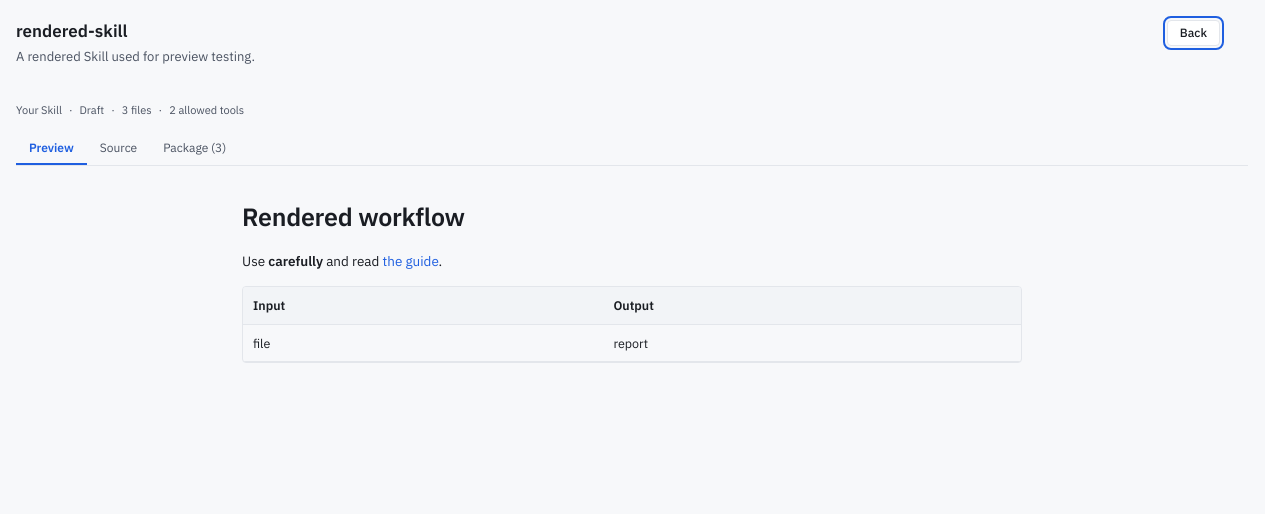
Test: SkillDetailsView › shows full source and the package inventory without rendering supporting Markdown
expect the text "A rendered Skill used for preview testing." is shown: met, box x1=16 y1=47 x2=255 y2=66
Click the tab "Source": {"x": 118, "y": 148} x1=87 y1=132 x2=150 y2=164
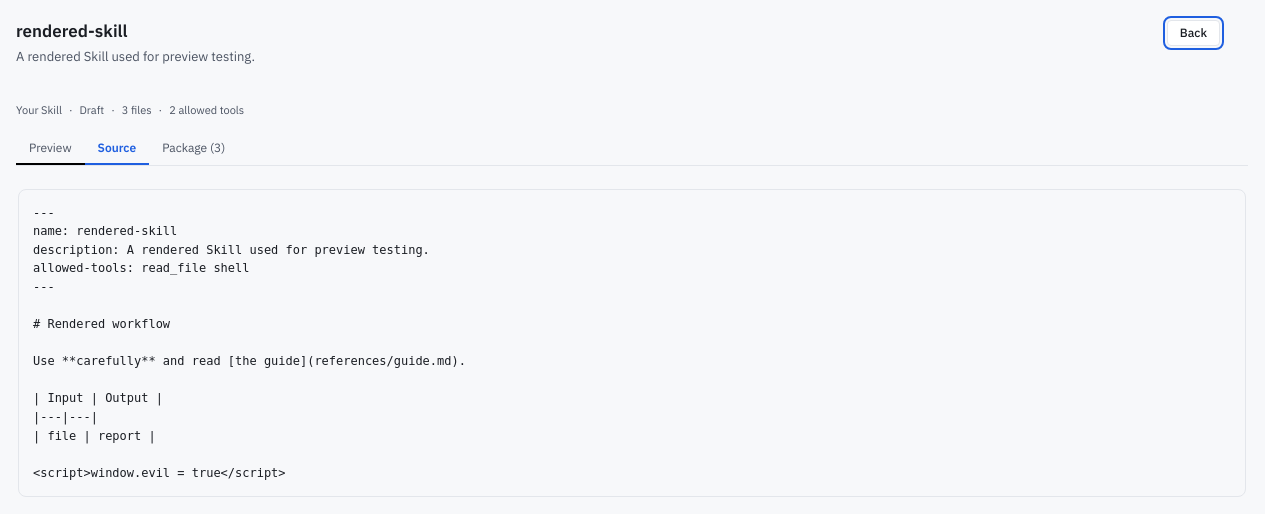
expect the text "name: rendered-skill" is shown: met, box x1=33 y1=206 x2=466 y2=480
Click the tab "Package (3)": {"x": 194, "y": 148} x1=149 y1=132 x2=238 y2=164
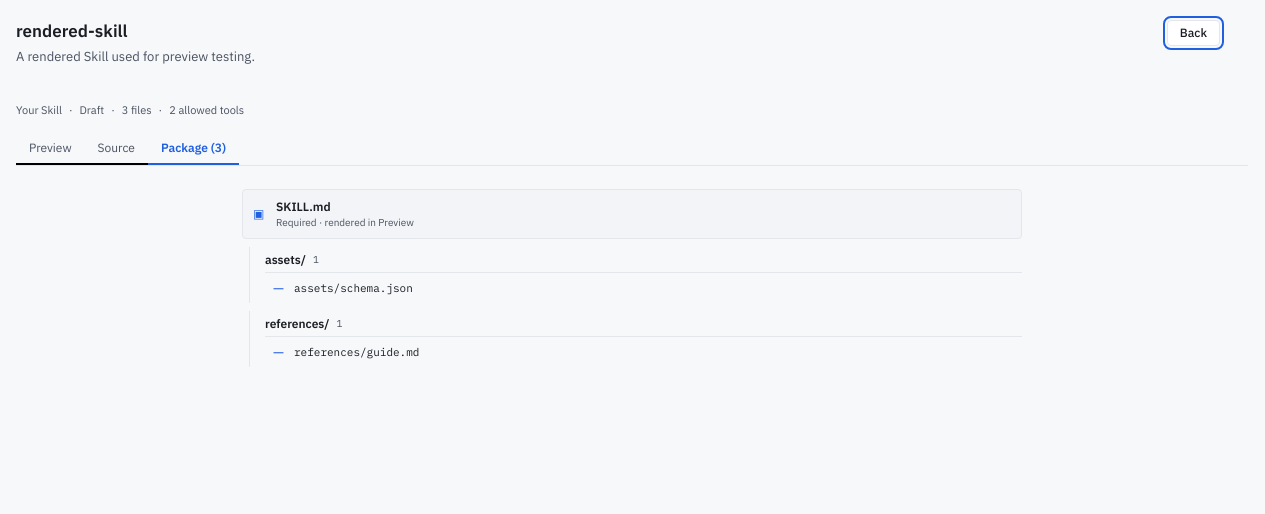
expect the text "references/guide.md" is shown: met, box x1=294 y1=344 x2=419 y2=358
expect the text "assets/schema.json" is shown: met, box x1=294 y1=280 x2=413 y2=294
